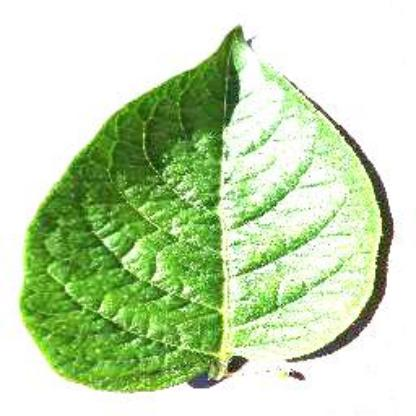Healthy-plant: (19, 19, 388, 400)
